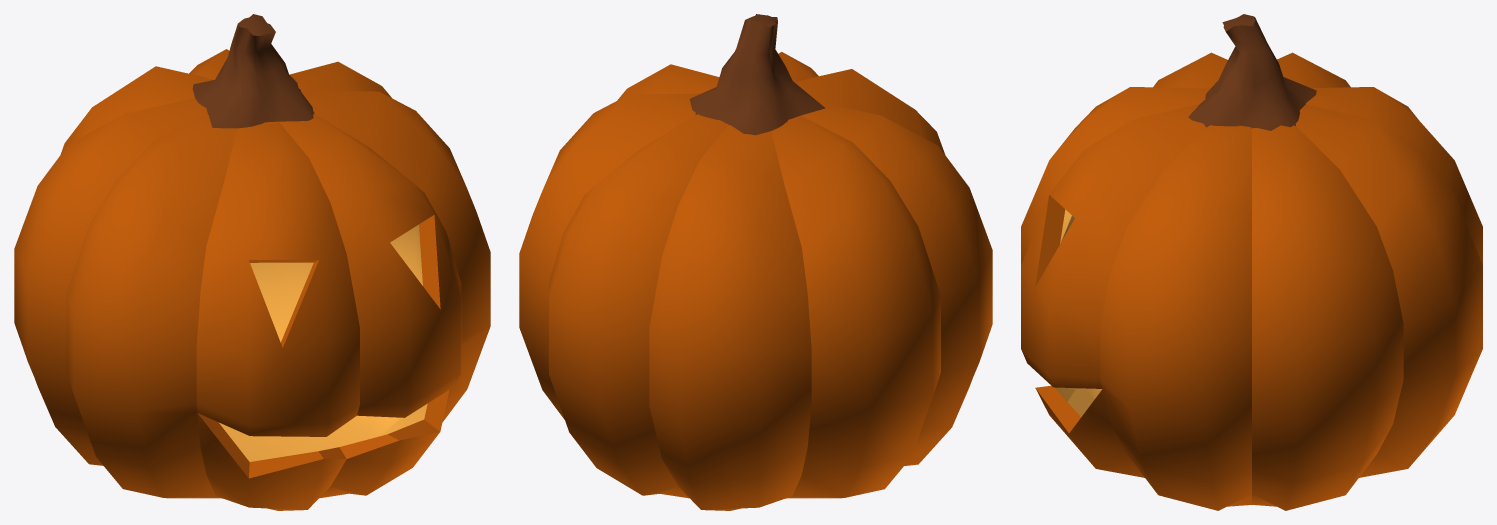
Rendered from pumpkin_basic.glb.
The picture shows the model from 3 angles, left to right: view 1: azimuth 30°, elevation 25°; view 2: azimuth 150°, elevation 25°; view 3: azimuth 270°, elevation 25°; orthographic projection.
Visible parts, largest first — view 1: 2.031, 0.103, 1.062; view 2: 2.031, 0.103; view 3: 2.031, 0.103, 1.062.
Boxes of the visible parts, box(x1,y1,x2,y2) form: 2.031: box(14, 49, 490, 510); 0.103: box(192, 14, 314, 128); 1.062: box(219, 224, 427, 461); 2.031: box(519, 52, 992, 510); 0.103: box(689, 14, 825, 135); 2.031: box(1021, 52, 1482, 510); 0.103: box(1188, 14, 1316, 130); 1.062: box(1054, 209, 1102, 416).
Size of the model in its own units: 0.4734 by 0.5024 by 0.4734.
